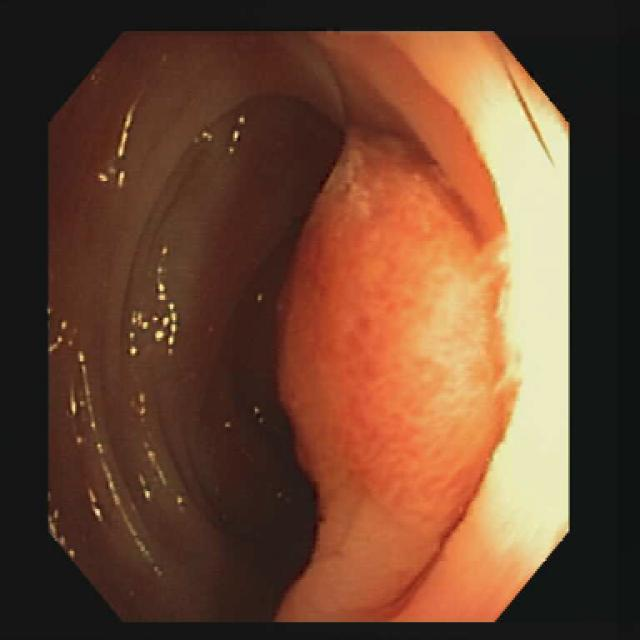tumor: (280, 131, 517, 607)
